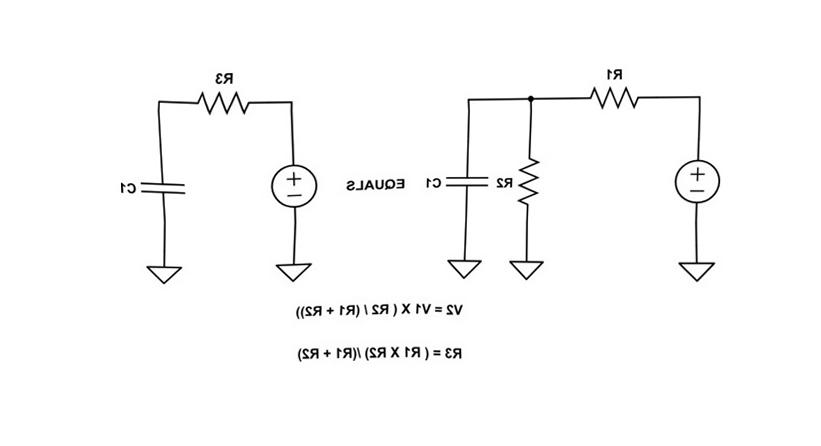Battery: (656, 149, 731, 213), (256, 152, 325, 216)
